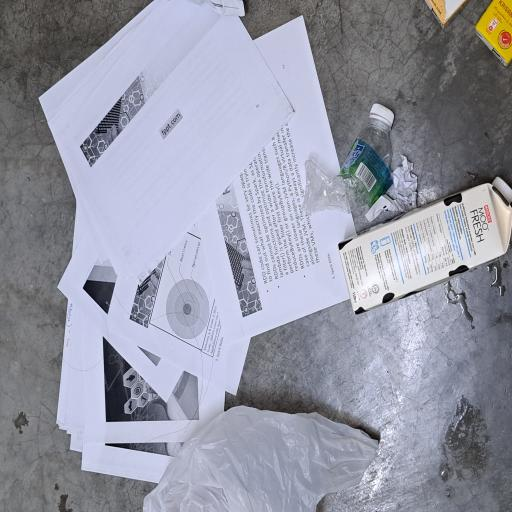drink carton: (148, 451, 253, 512)
paper: (25, 46, 384, 468), (213, 485, 268, 512)
plastic bag: (0, 188, 79, 509)
plastic bottle: (219, 403, 309, 512)
plastic bottle cap: (288, 490, 308, 512)
